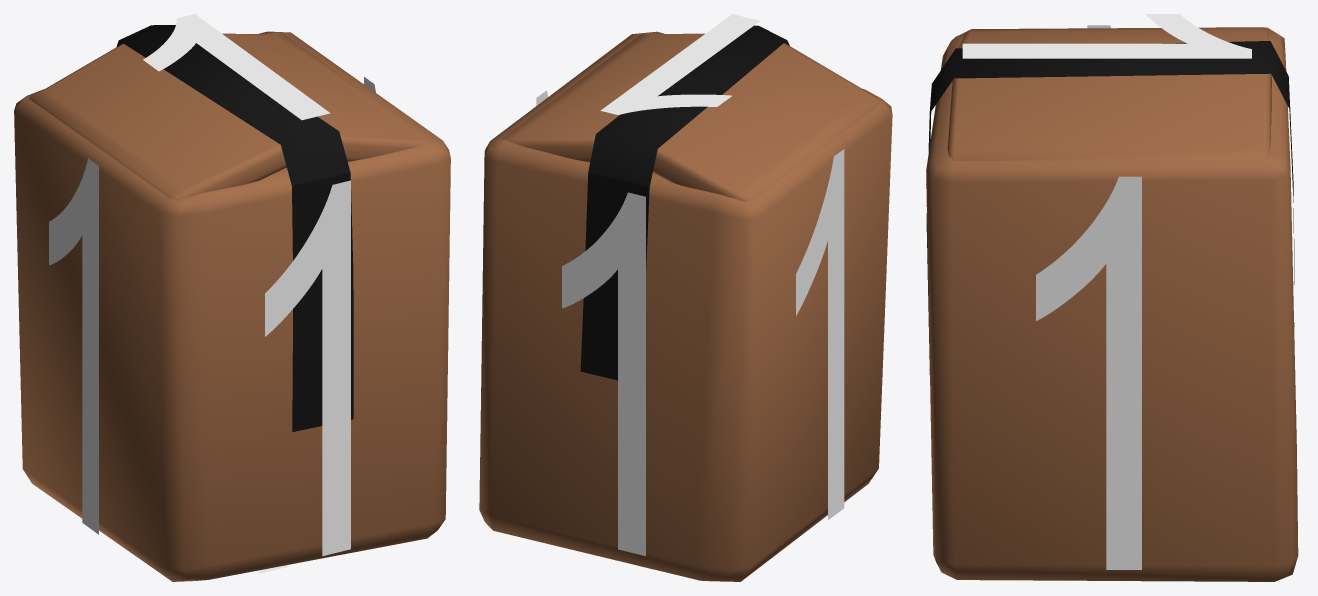
File: Parcel_v1_1.FBX
The picture shows the model from 3 angles, left to right: view 1: azimuth 30°, elevation 25°; view 2: azimuth 150°, elevation 25°; view 3: azimuth 270°, elevation 25°; orthographic projection. The views are drawn at different scales.
Visible parts, largest first — view 1: Box029; view 2: Box029; view 3: Box029.
Boxes of the visible parts, bbox=[...] form: Box029: bbox=[14, 14, 450, 581]; Box029: bbox=[479, 14, 892, 581]; Box029: bbox=[926, 14, 1298, 581].
Bounding box in the file's own units: 23 × 34.09 × 24.56.
